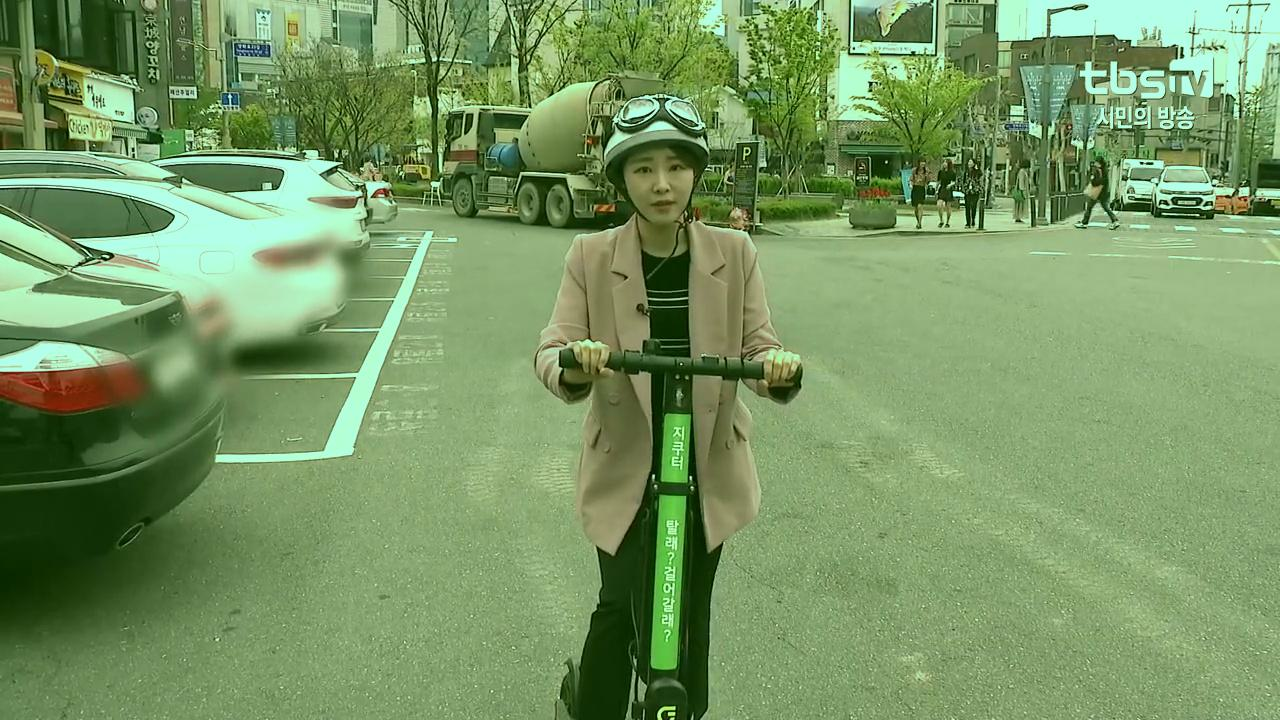helmet: (531, 92, 807, 720)
